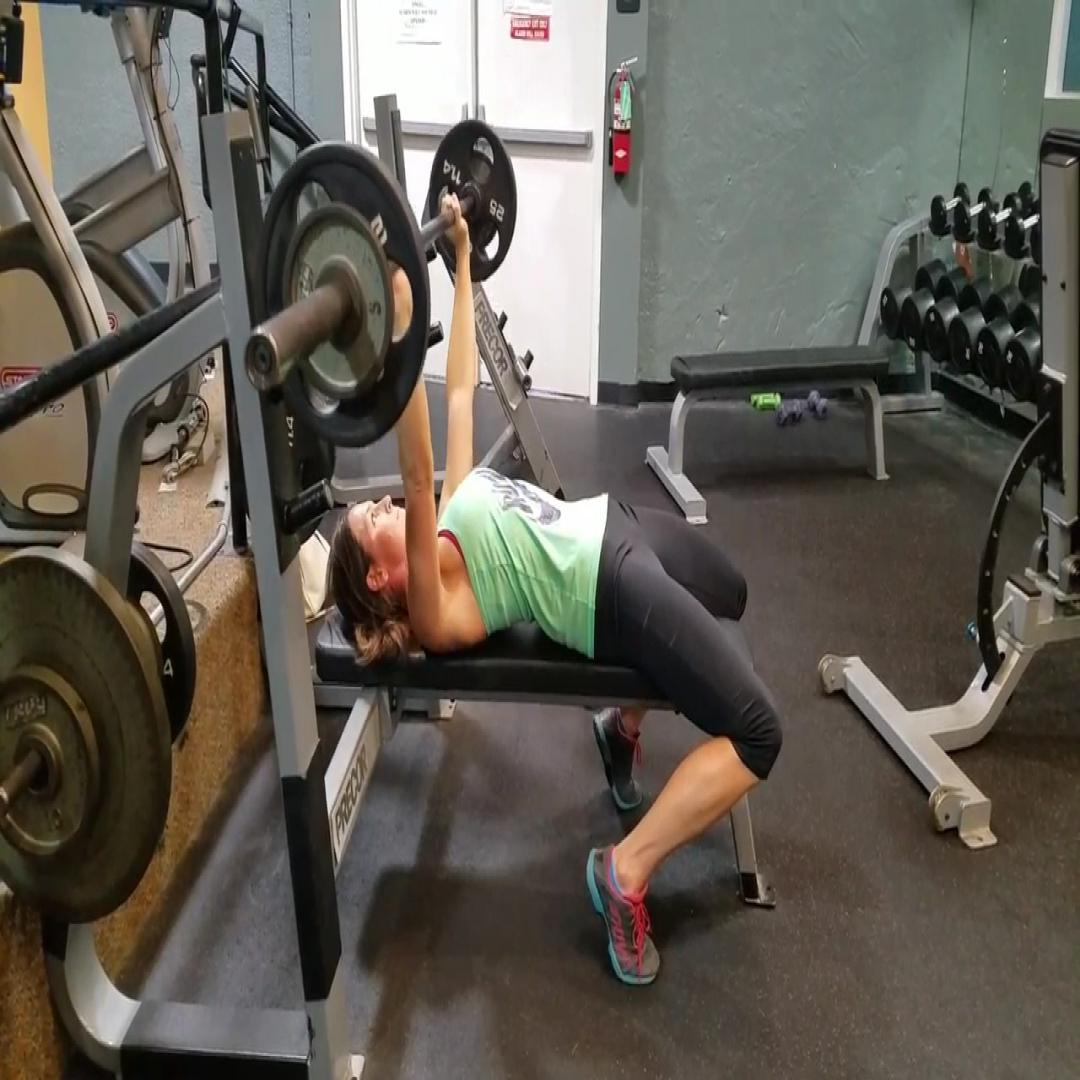Bar: (245, 324, 282, 394)
Barbell: (251, 140, 430, 450)
